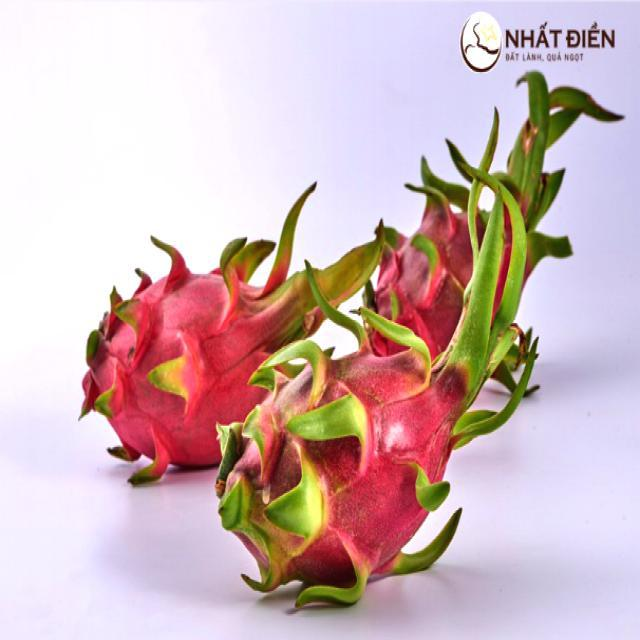trang: (216, 194, 528, 610), (75, 180, 391, 474), (362, 66, 628, 401)
